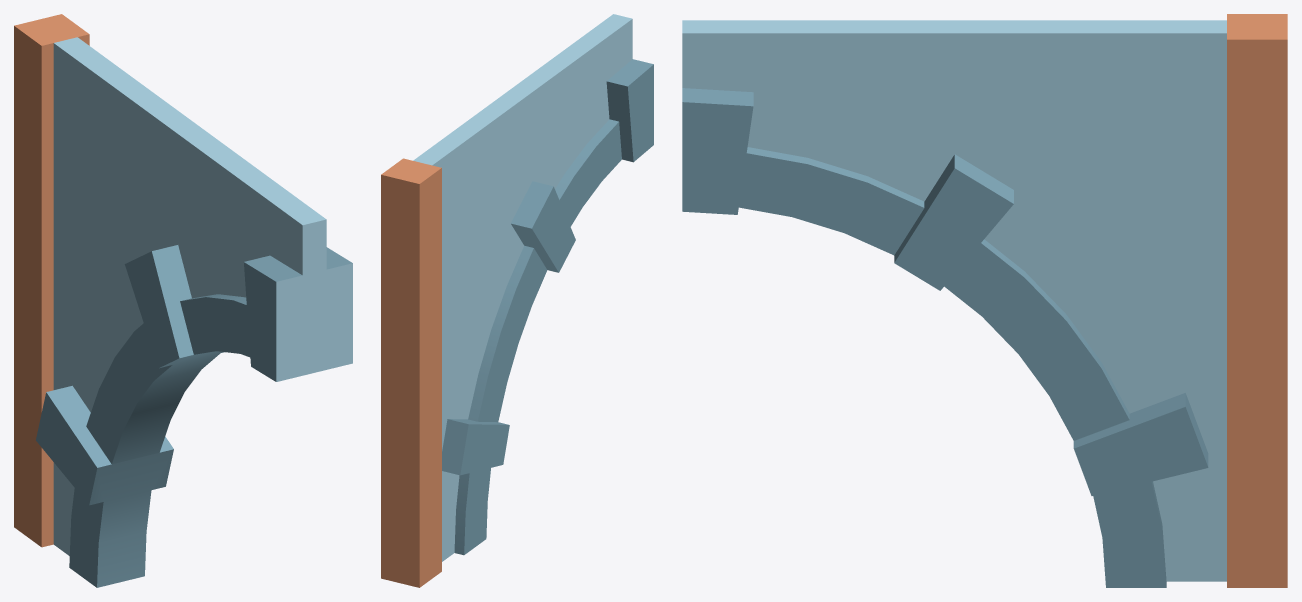
Rendered from wallArchTopDetail.glb.
3 views of the same model, side by side, from view 1: azimuth 30°, elevation 25°; view 2: azimuth 150°, elevation 25°; view 3: azimuth 270°, elevation 25° (orthographic). The views are drawn at different scales.
Visible parts, largest first — view 1: wallArchTopDetail; view 2: wallArchTopDetail; view 3: wallArchTopDetail.
Part boxes in pixels (<box>): wallArchTopDetail: <box>14,14,352,587</box>; wallArchTopDetail: <box>381,14,653,587</box>; wallArchTopDetail: <box>682,14,1287,587</box>.
Bounding box in the file's own units: 0.16 × 1 × 1.
